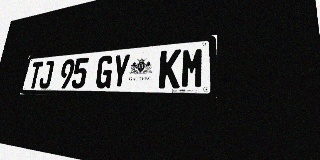5: (71, 57, 89, 88)
9: (58, 59, 76, 88)
G: (95, 55, 114, 88)
J: (38, 60, 55, 89)
K: (158, 49, 181, 88)
M: (180, 47, 205, 88)
T: (28, 61, 44, 89)
Y: (110, 54, 131, 88)
